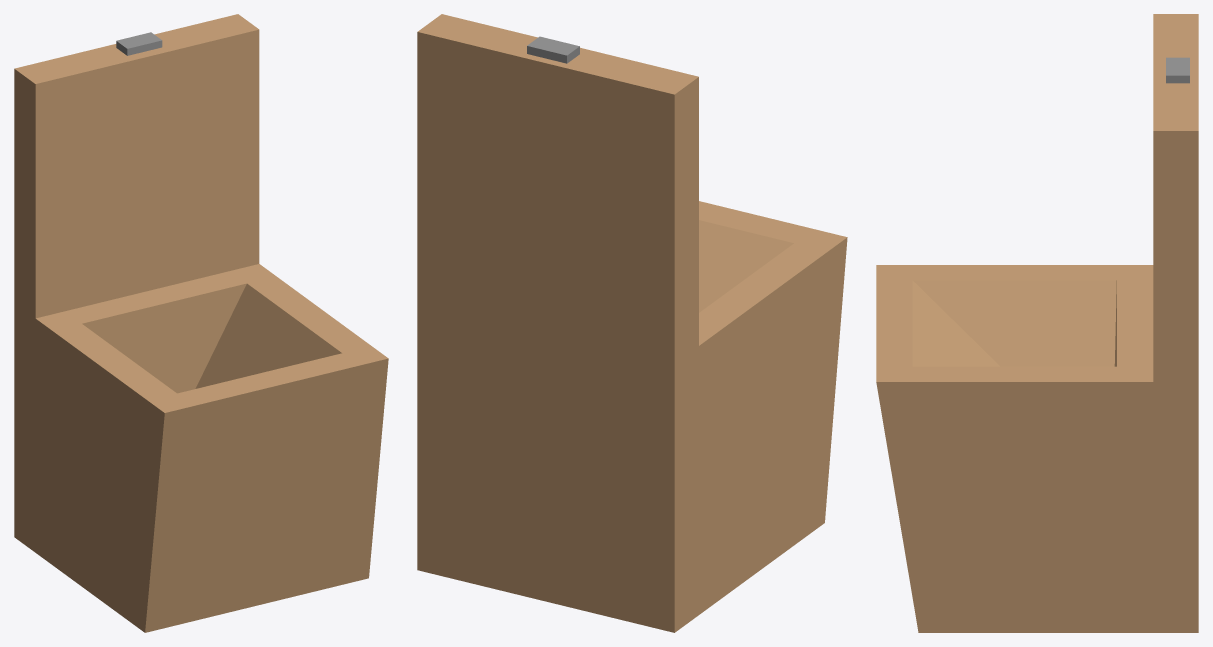
The model's file is Privada.fbx.
The picture shows the model from 3 angles, left to right: view 1: azimuth 30°, elevation 25°; view 2: azimuth 150°, elevation 25°; view 3: azimuth 270°, elevation 25°; orthographic projection. The views are drawn at different scales.
Parts seen in each view (by area): view 1: Cube; view 2: Cube; view 3: Cube.
Part boxes in pixels (x1=…): Cube: x1=14, y1=14, x2=388, y2=632; Cube: x1=417, y1=14, x2=847, y2=632; Cube: x1=876, y1=14, x2=1198, y2=632.
Bounding box in the file's own units: 20 × 40.6 × 23.29.
